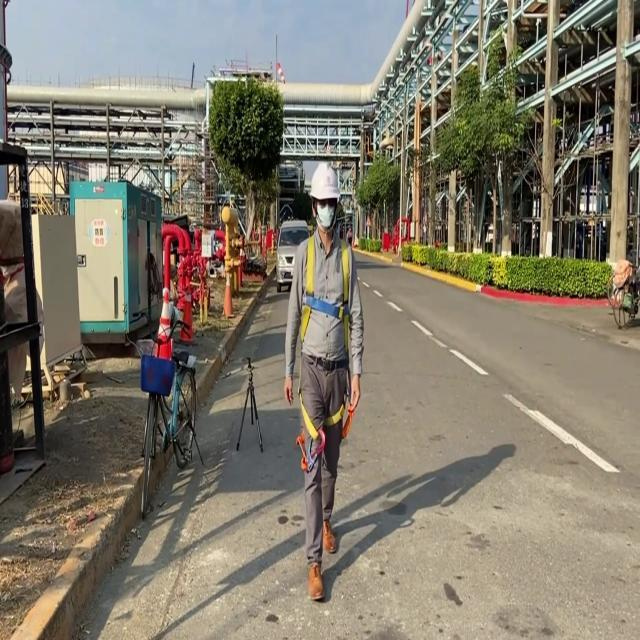Harness: (301, 236, 353, 354)
